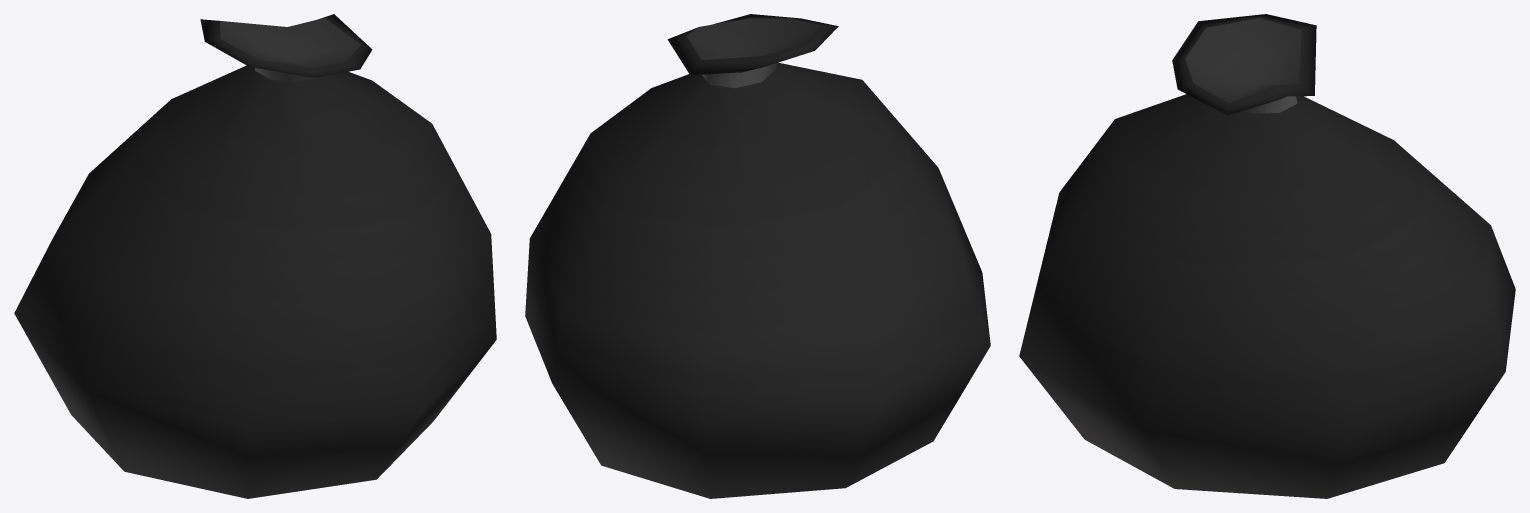
Rendered from Trashbag_B_1.fbx.
3 views of the same model, side by side, from view 1: azimuth 30°, elevation 25°; view 2: azimuth 150°, elevation 25°; view 3: azimuth 270°, elevation 25° (orthographic). The views are drawn at different scales.
Parts seen in each view (by area): view 1: Trashbag_B_1; view 2: Trashbag_B_1; view 3: Trashbag_B_1.
Part boxes in pixels (x1,y1,x2,y2): Trashbag_B_1: (14,14,496,498); Trashbag_B_1: (525,14,990,498); Trashbag_B_1: (1019,14,1515,498).
Size of the model in its own units: 41.58 by 38.8 by 44.91.
